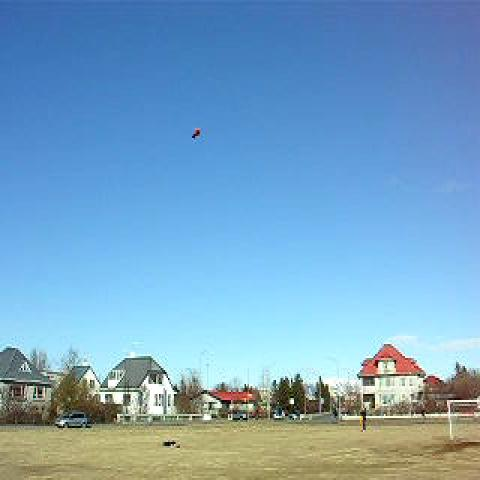car: (55, 411, 87, 429), (289, 410, 308, 420), (250, 408, 266, 418), (273, 410, 286, 419), (233, 411, 247, 419)
